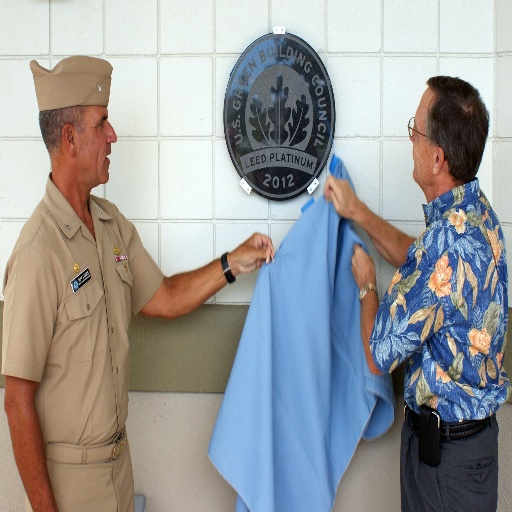hand: (223, 230, 277, 283), (323, 172, 357, 220), (350, 244, 375, 288)
